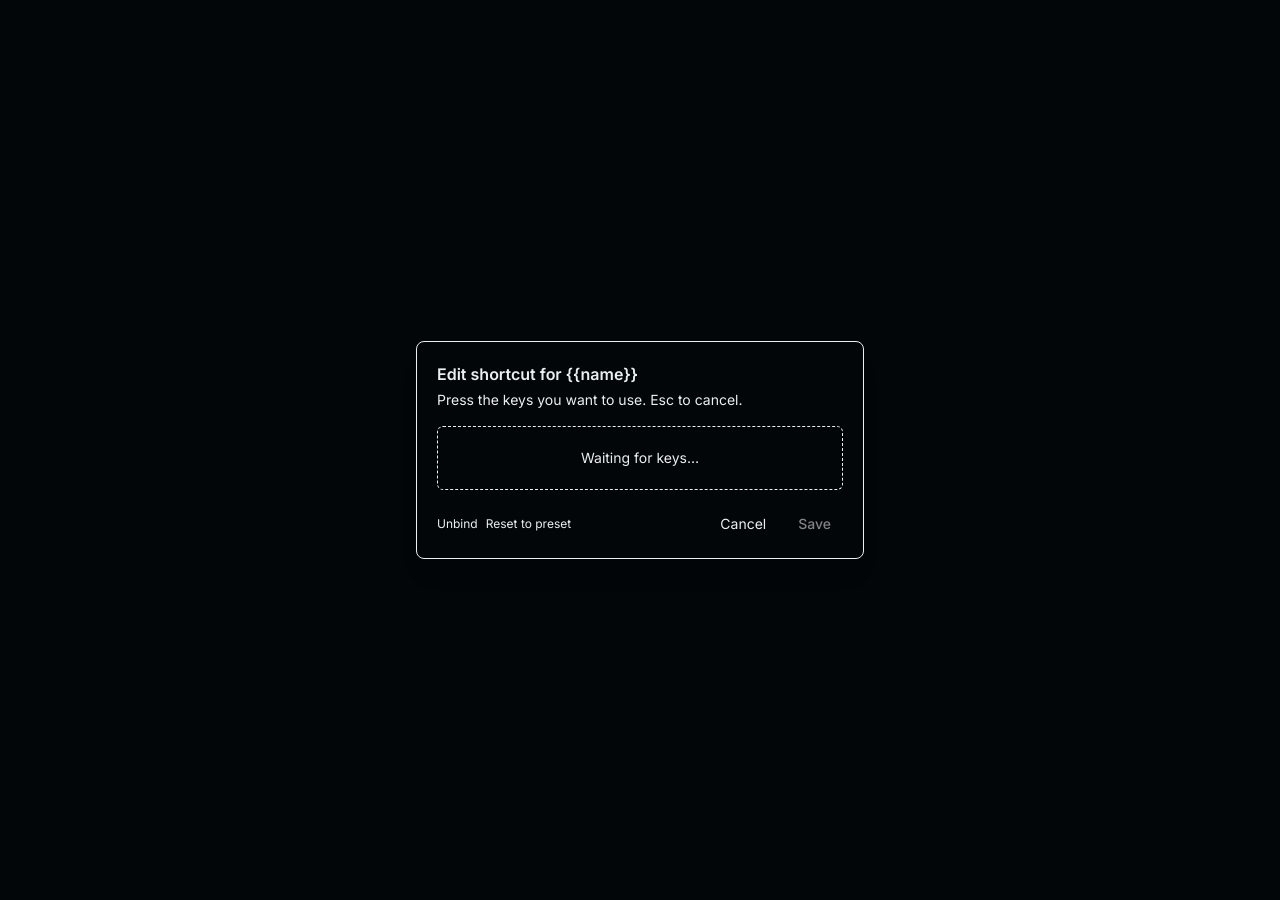
Test case: RecordBindingDialog › stringifies non-Error rejections from resetToPreset
Click the button "Reset to preset": [528, 524] box [486,516,571,532]
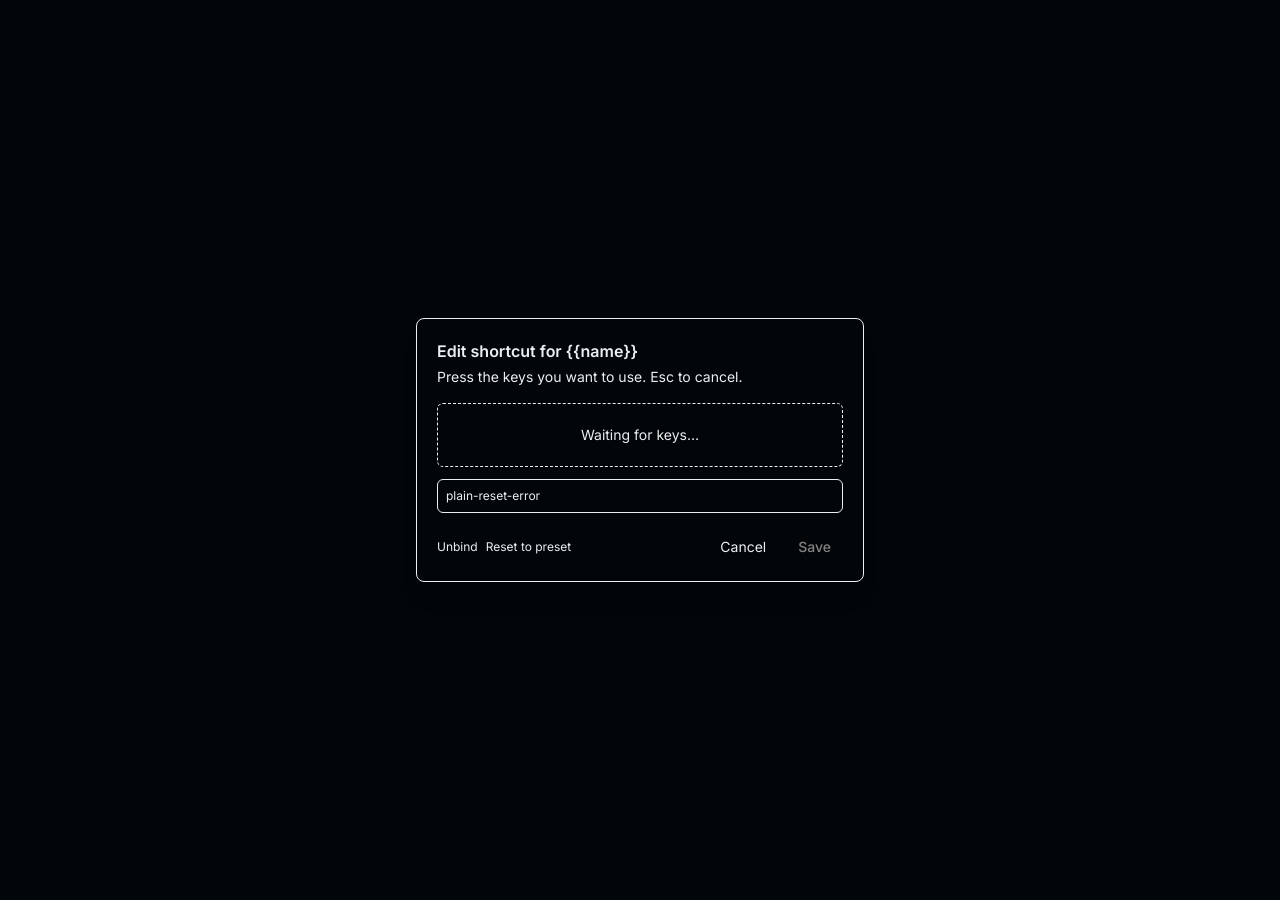
expect the text "plain-reset-error" is shown: met, box [437,479,843,513]
